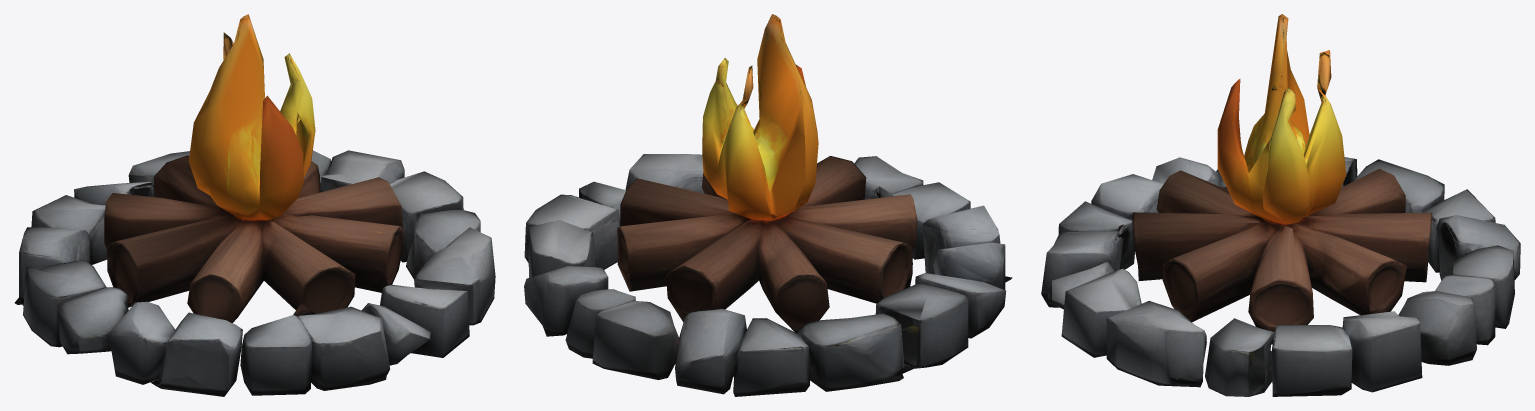
Rendered from 09_campfire_with_stones_and_logs.glb.
3 renders of one model, left to right at view 1: azimuth 30°, elevation 25°; view 2: azimuth 150°, elevation 25°; view 3: azimuth 270°, elevation 25°, orthographic.
Visible parts, largest first — view 1: geometry_0; view 2: geometry_0; view 3: geometry_0.
Part boxes in pixels (<box>): geometry_0: <box>15,14,495,396</box>; geometry_0: <box>524,14,1012,396</box>; geometry_0: <box>1041,14,1520,396</box>.
Bounding box in the file's own units: 0.9994 × 0.6538 × 0.9973.
1 material, 1 textured.
